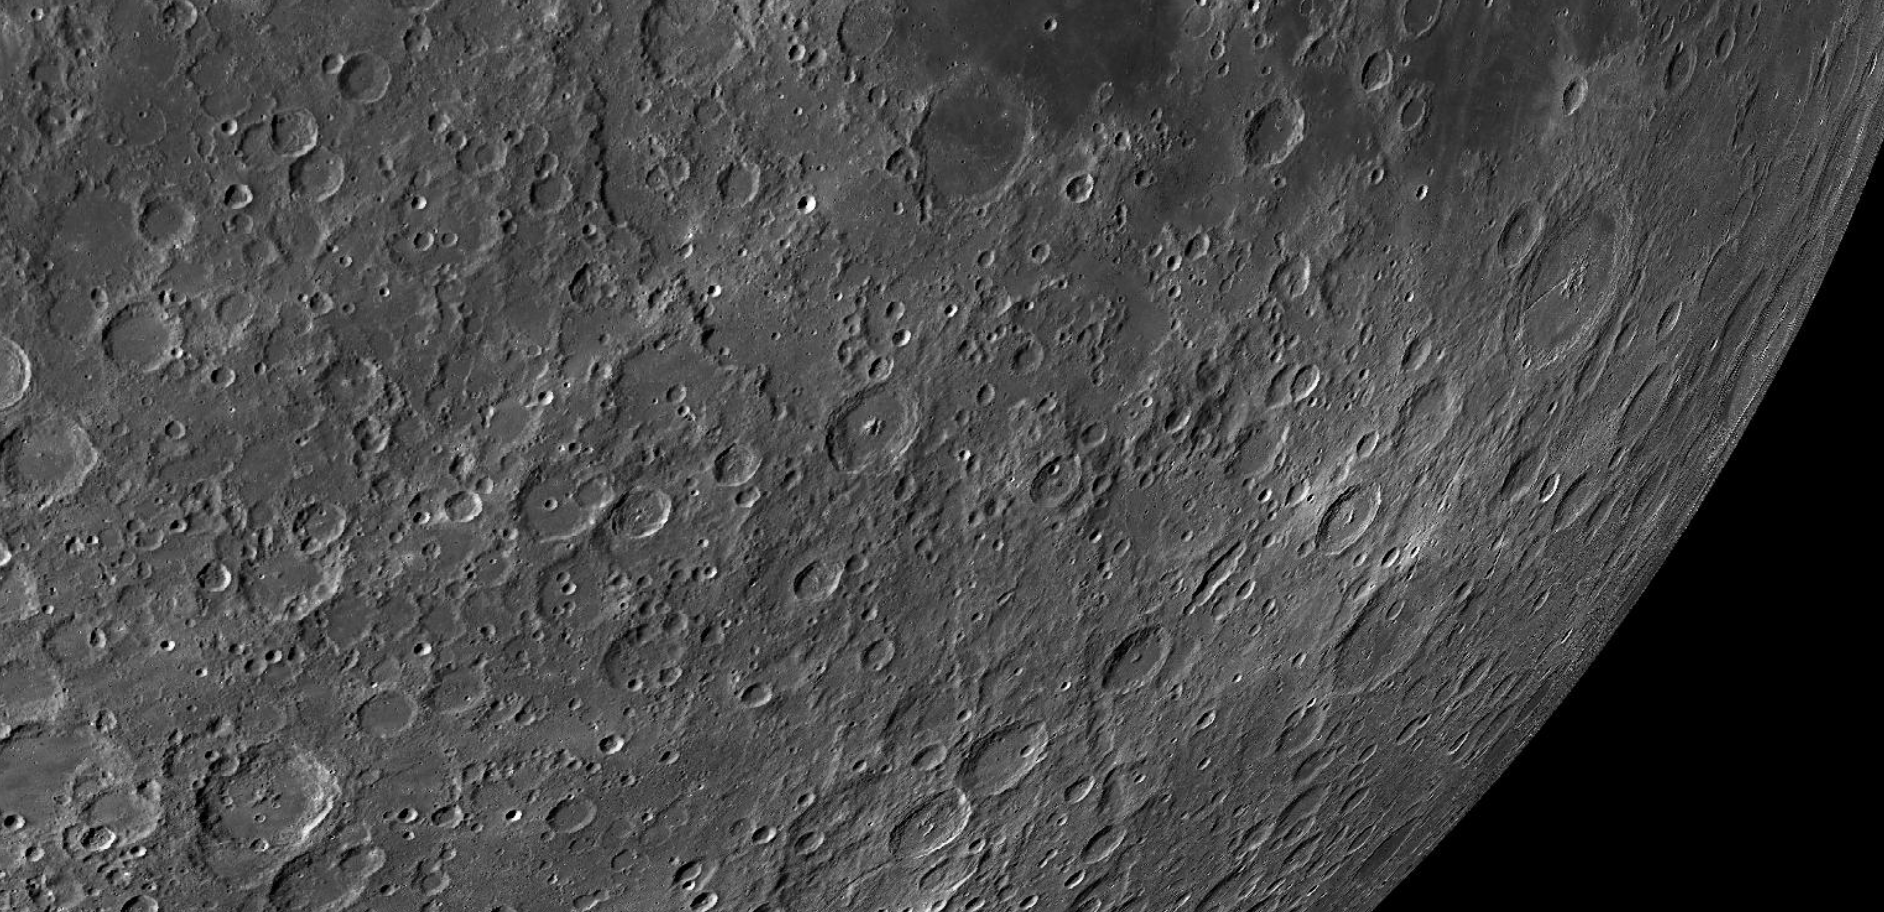crater: (1480, 173, 1647, 404), (892, 55, 1050, 236), (186, 731, 340, 866), (803, 377, 934, 488), (631, 1, 775, 100), (81, 293, 209, 400), (1083, 614, 1186, 729), (1302, 473, 1401, 573), (1221, 89, 1328, 175), (327, 676, 425, 758), (296, 341, 386, 421), (1524, 54, 1605, 141), (603, 479, 682, 558), (332, 40, 406, 123), (702, 148, 773, 225), (1642, 32, 1709, 109), (533, 787, 610, 851), (1072, 819, 1147, 876), (1645, 287, 1701, 362), (1703, 14, 1757, 88), (514, 169, 577, 230), (1045, 157, 1102, 221), (1391, 318, 1439, 380), (1453, 646, 1502, 704), (857, 628, 908, 682), (183, 554, 239, 600), (783, 774, 831, 825), (731, 676, 780, 720), (650, 376, 698, 407), (403, 221, 439, 262)
